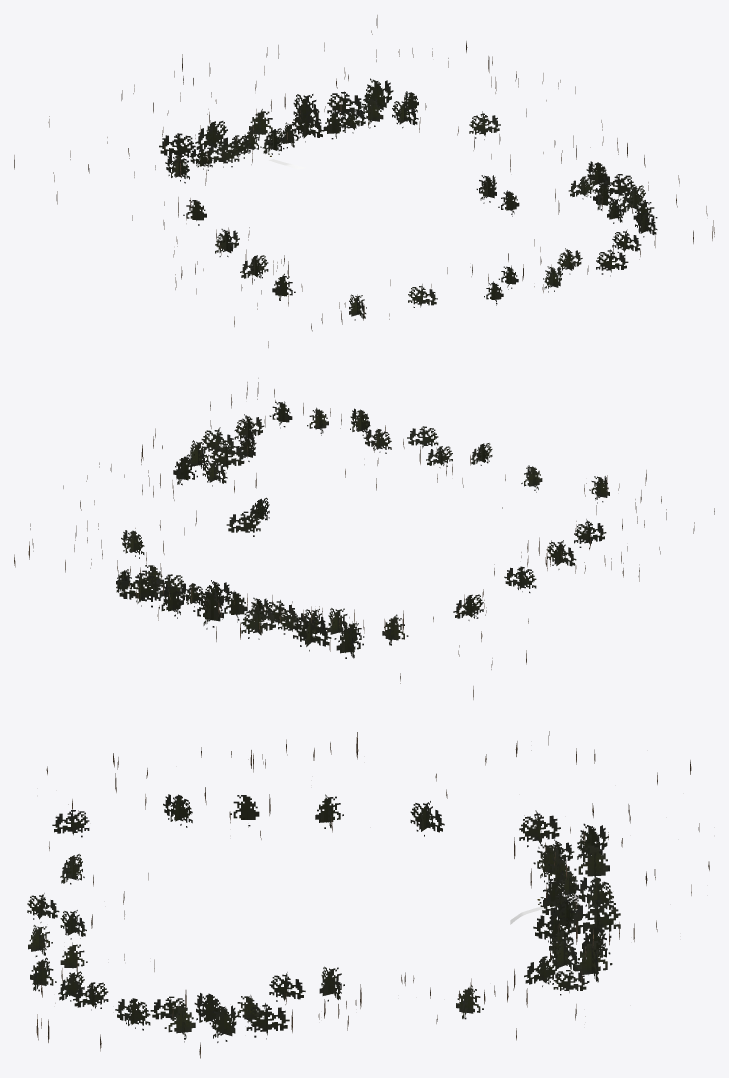
Rendered from far-terrain.glb.
3 renders of one model, top to bottom at view 1: azimuth 30°, elevation 25°; view 2: azimuth 150°, elevation 25°; view 3: azimuth 270°, elevation 25°, orthographic. The views are drawn at different scales.
Parts seen in each view (by area): view 1: grove:-4:1, 산사 · 단풍나무 줄기; view 2: grove:-4:1, 산사 · 단풍나무 줄기; view 3: grove:-4:1, 산사 · 단풍나무 줄기.
Boxes of the visible parts, bbox=[...] form: grove:-4:1: bbox=[159, 78, 657, 320]; 산사 · 단풍나무 줄기: bbox=[14, 15, 714, 347]; grove:-4:1: bbox=[116, 401, 609, 658]; 산사 · 단풍나무 줄기: bbox=[14, 378, 714, 699]; grove:-4:1: bbox=[27, 794, 620, 1042]; 산사 · 단풍나무 줄기: bbox=[36, 731, 709, 1058].
Size of what is drawn, in the model's own units: 250 by 41.62 by 250.
6 materials, 4 textured.
